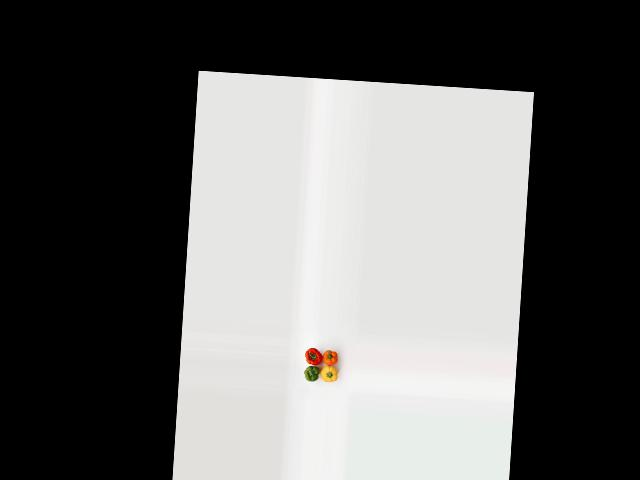bell_pepper: (302, 361, 321, 386)
